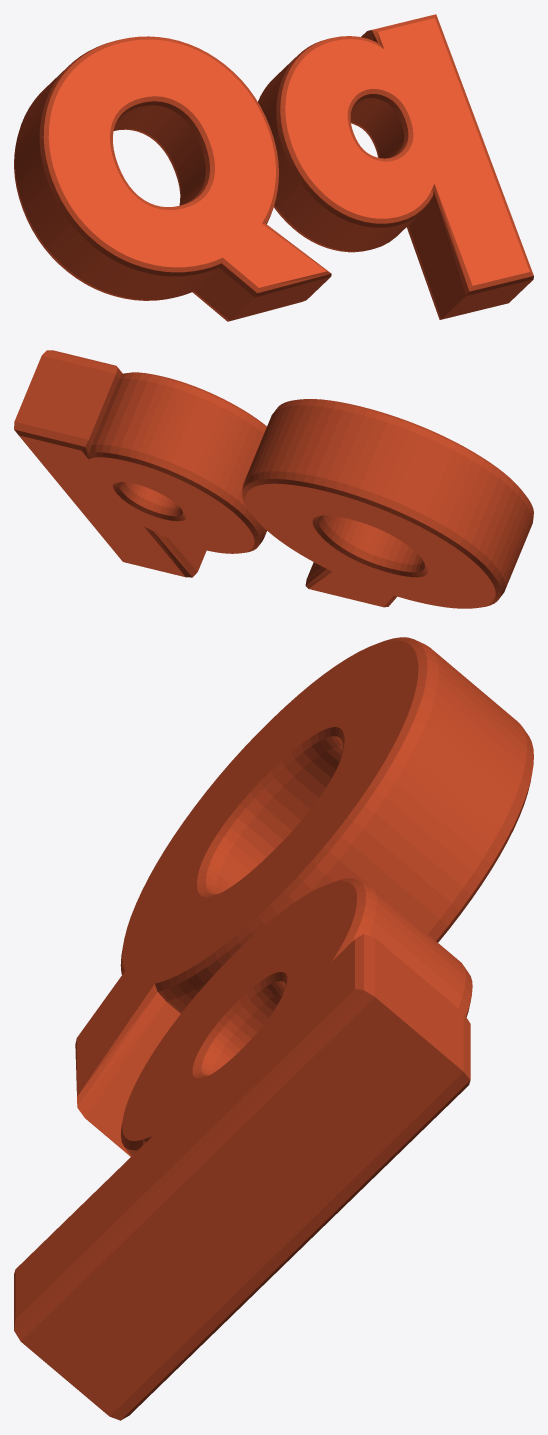
The picture shows the model from 3 angles, top to bottom: view 1: azimuth 30°, elevation 25°; view 2: azimuth 150°, elevation 25°; view 3: azimuth 270°, elevation 25°; orthographic projection. The views are drawn at different scales.
Visible parts, largest first — view 1: letter; view 2: letter; view 3: letter.
Boxes of the visible parts, x1,y1,x2,y2 form: letter: (14, 14, 533, 321); letter: (14, 350, 533, 608); letter: (14, 637, 533, 1420).
Size of the model in its own units: 1.97 by 1.25 by 1.2.
